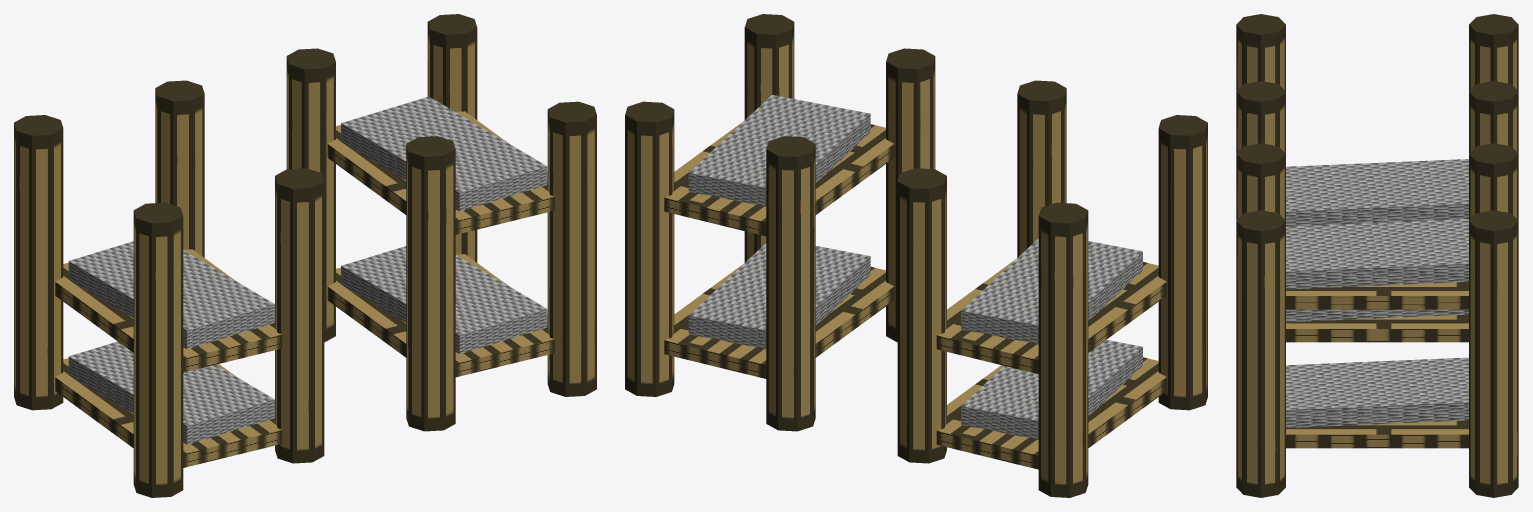
File: Bed.fbx
3 views of the same model, side by side, from view 1: azimuth 30°, elevation 25°; view 2: azimuth 150°, elevation 25°; view 3: azimuth 270°, elevation 25° (orthographic). The views are drawn at different scales.
Parts seen in each view (by area): view 1: Bed 2, Bed 1; view 2: Bed 2, Bed 1; view 3: Bed 1, Bed 2.
Part boxes in pixels (box(x1,y1,x2,y2)): Bed 2: box(14, 80, 324, 497); Bed 1: box(286, 14, 596, 431); Bed 2: box(897, 80, 1207, 497); Bed 1: box(625, 14, 935, 431); Bed 1: box(1236, 143, 1518, 497); Bed 2: box(1236, 14, 1518, 342).
Bounding box in the file's own units: 672 × 385 × 369.
